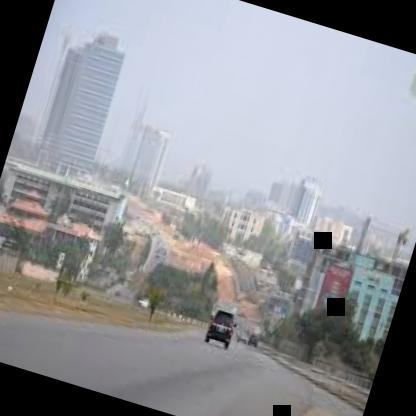car: (194, 300, 241, 356)
